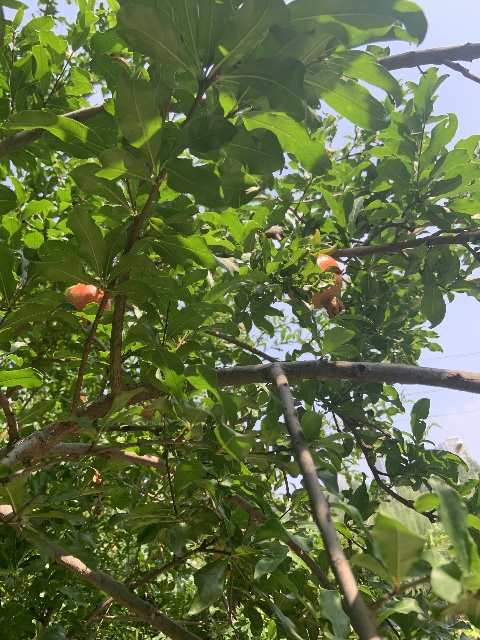ripe: (286, 253, 345, 317), (68, 283, 111, 327)
